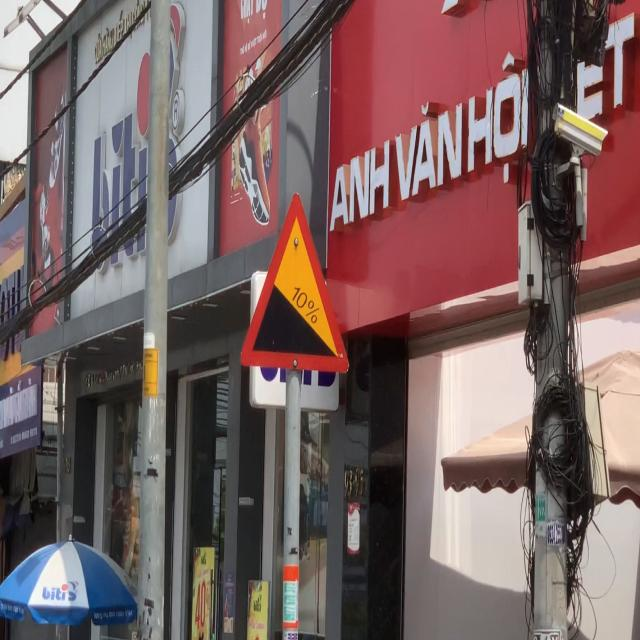Nguy hiem: (235, 184, 357, 386)
